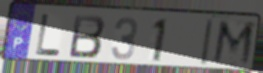1: (150, 17, 169, 63)
3: (110, 16, 139, 62)
B: (68, 13, 108, 59)
I: (198, 17, 215, 67)
L: (34, 12, 63, 58)
M: (210, 19, 258, 69)
